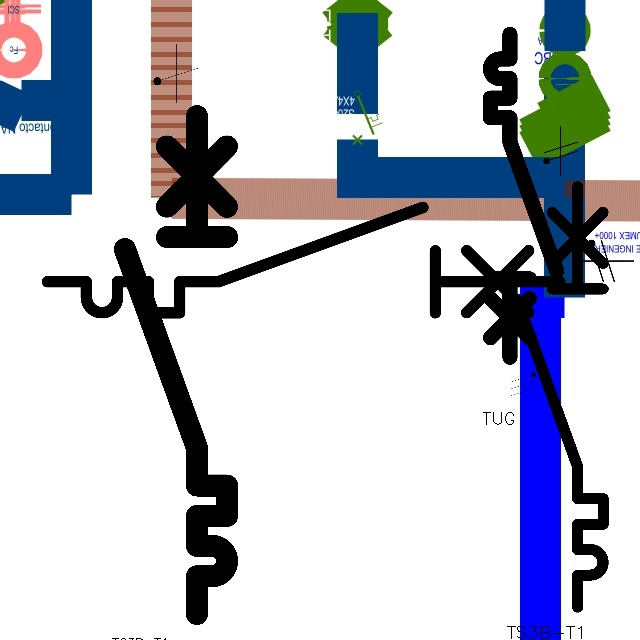interruptor_termomagnetico: (34, 194, 573, 326), (112, 103, 240, 627), (506, 176, 614, 618), (482, 26, 565, 366)
